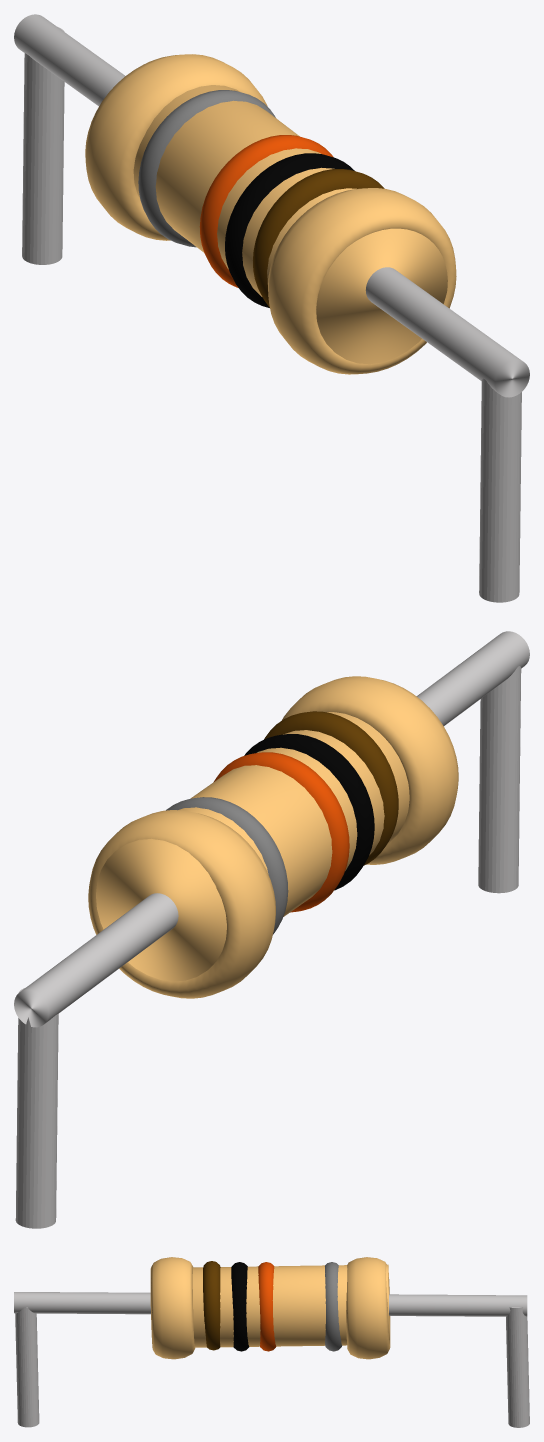
File: Resistor 10000.fbx
The picture shows the model from 3 angles, top to bottom: view 1: azimuth 30°, elevation 25°; view 2: azimuth 150°, elevation 25°; view 3: azimuth 270°, elevation 25°; orthographic projection. The views are drawn at different scales.
Visible parts, largest first — view 1: Torus.001, Cylinder.001, Cylinder.002, Cylinder.004; view 2: Torus.001, Cylinder.001, Cylinder.002, Cylinder.004; view 3: Torus.001, Cylinder.001, Cylinder.004, Cylinder.002.
Part boxes in pixels (x1,y1,x2,y2): Torus.001: (85,54,456,374); Cylinder.001: (14,14,529,397); Cylinder.002: (479,378,521,602); Cylinder.004: (22,27,64,264); Torus.001: (88,676,458,998); Cylinder.001: (14,631,529,1027); Cylinder.002: (478,666,521,893); Cylinder.004: (15,988,58,1228); Torus.001: (150,1257,390,1359); Cylinder.001: (14,1292,527,1316); Cylinder.004: (506,1307,529,1427); Cylinder.002: (15,1307,39,1427).
Size of the model in its own units: 147 by 247 by 719.
